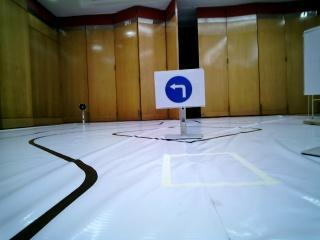left: (158, 76, 197, 106)
